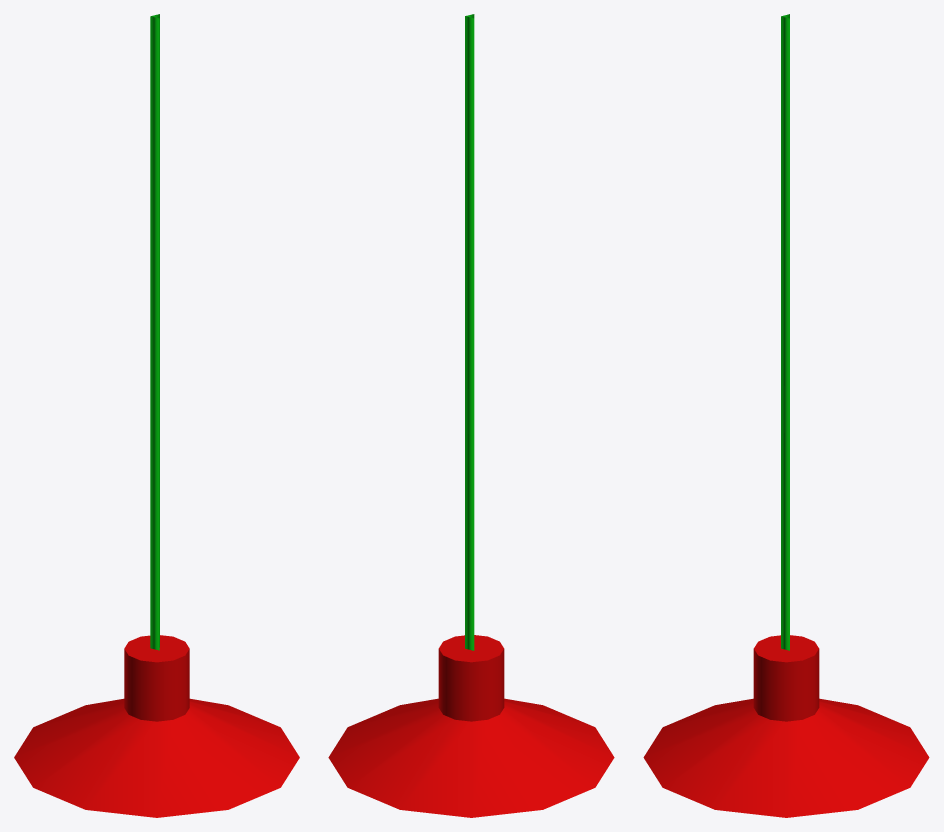
File: simple_pendant_light.FBX
The picture shows the model from 3 angles, left to right: view 1: azimuth 30°, elevation 25°; view 2: azimuth 150°, elevation 25°; view 3: azimuth 270°, elevation 25°; orthographic projection.
Visible parts, largest first — view 1: pendant_light; view 2: pendant_light; view 3: pendant_light.
Part boxes in pixels (<box>): pendant_light: <box>14,14,299,817</box>; pendant_light: <box>328,14,614,817</box>; pendant_light: <box>643,14,929,817</box>.
Size of the model in its own units: 0.2624 by 0.2624 by 0.7968.
